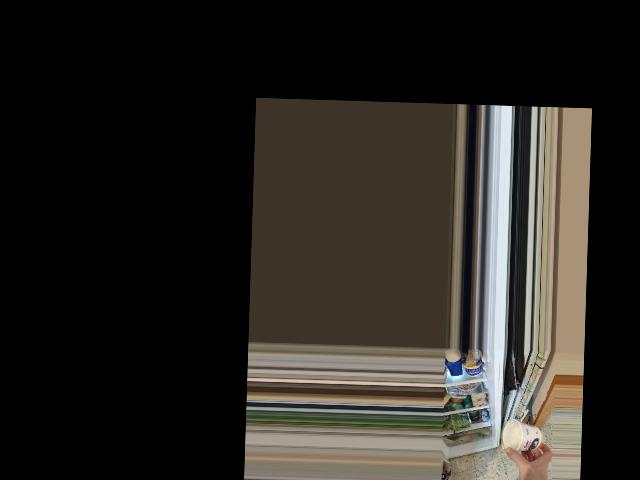cotage: (502, 420, 545, 454)
